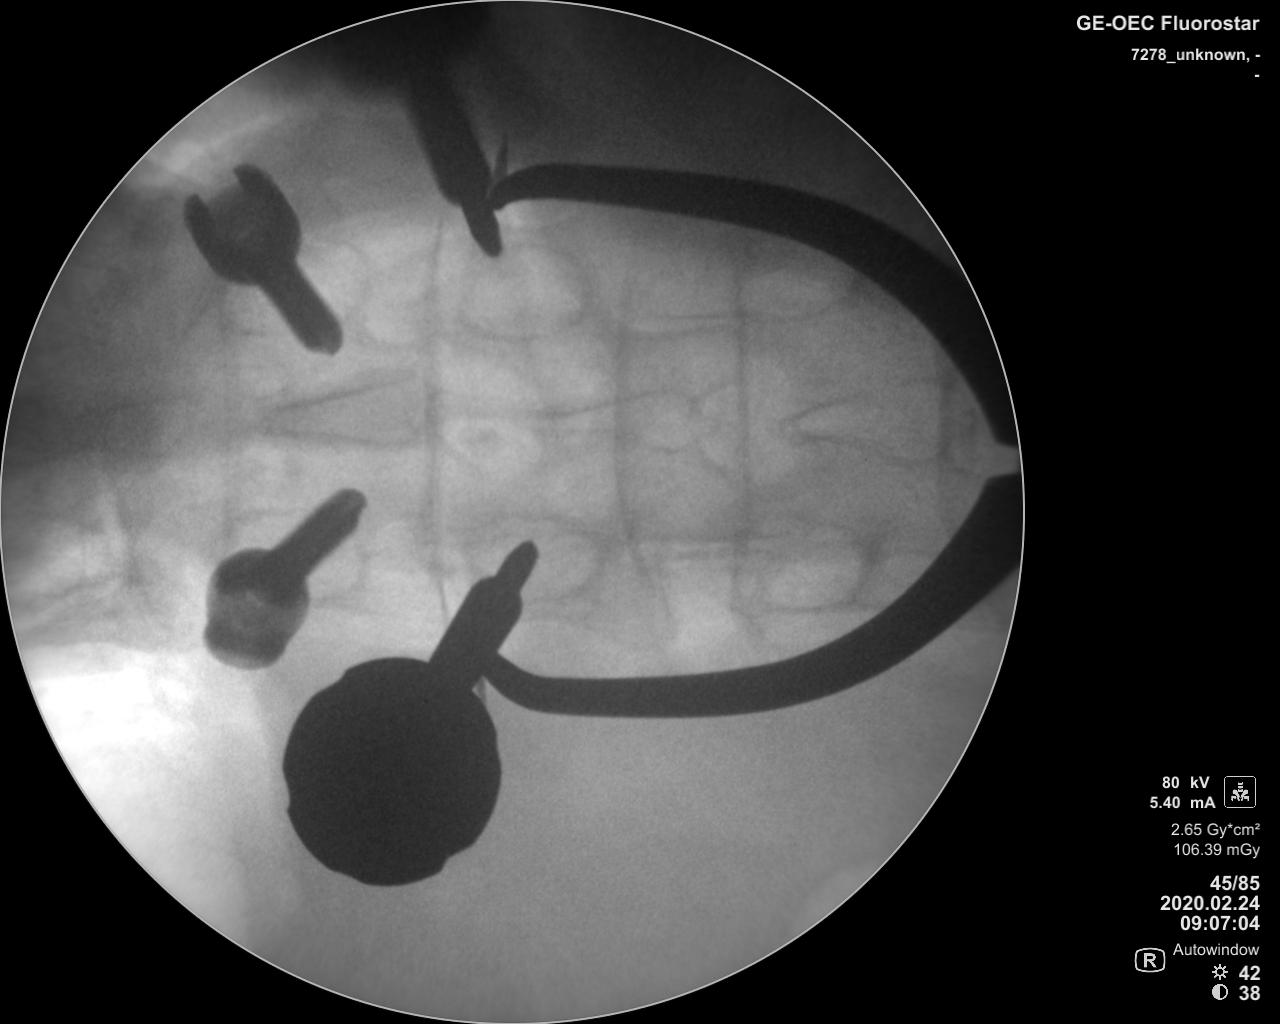eyes: (453, 240, 591, 343), (236, 506, 369, 604), (237, 232, 369, 330), (735, 518, 872, 609), (468, 510, 601, 603)
line: (416, 209, 449, 613), (612, 240, 649, 590), (207, 288, 245, 553), (726, 255, 755, 557)
nose: (769, 380, 983, 462), (249, 377, 436, 447), (516, 385, 703, 453), (50, 389, 213, 466)
